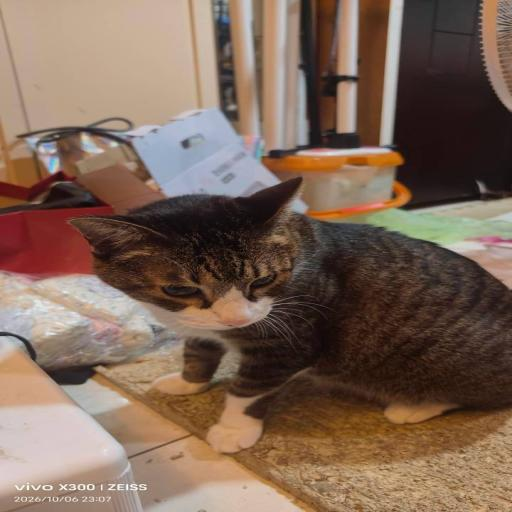cat: (89, 188, 508, 443)
